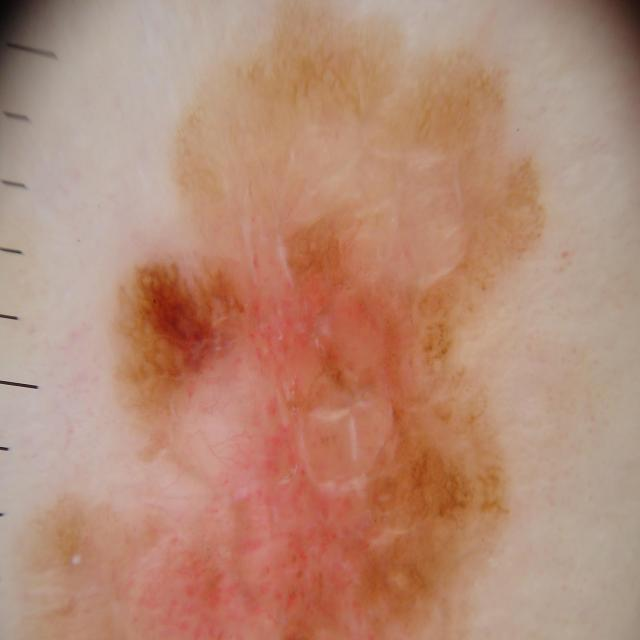Melanoma: (131, 207, 457, 640)
